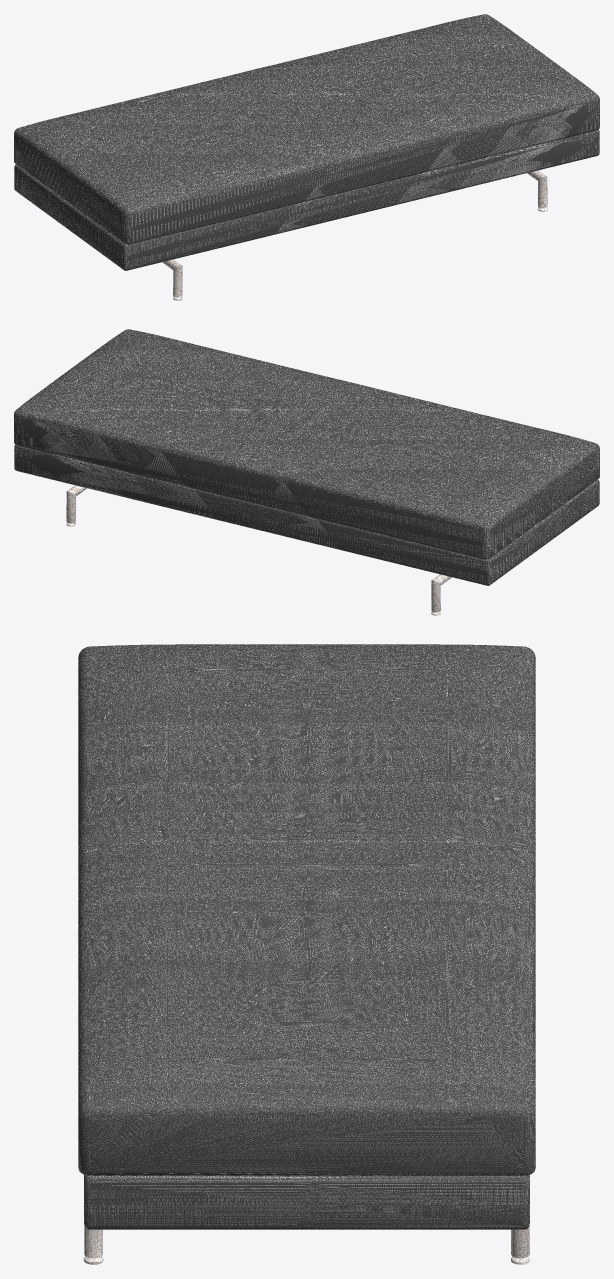
3 renders of one model, top to bottom at view 1: azimuth 30°, elevation 25°; view 2: azimuth 150°, elevation 25°; view 3: azimuth 270°, elevation 25°, orthographic. The views are drawn at different scales.
Visible parts, largest first — view 1: mesh4_mesh4-geometry, mesh1_mesh1-geometry, mesh3_mesh3-geometry, mesh2_mesh2-geometry; view 2: mesh4_mesh4-geometry, mesh1_mesh1-geometry, mesh2_mesh2-geometry, mesh3_mesh3-geometry; view 3: mesh4_mesh4-geometry, mesh1_mesh1-geometry, mesh3_mesh3-geometry.
Boxes of the visible parts, x1,y1,x2,y2 form: mesh4_mesh4-geometry: (14, 14, 599, 244); mesh1_mesh1-geometry: (14, 129, 599, 270); mesh3_mesh3-geometry: (527, 170, 547, 211); mesh2_mesh2-geometry: (162, 259, 182, 300); mesh4_mesh4-geometry: (14, 329, 599, 559); mesh1_mesh1-geometry: (14, 444, 599, 585); mesh2_mesh2-geometry: (431, 574, 451, 615); mesh3_mesh3-geometry: (66, 485, 86, 526); mesh4_mesh4-geometry: (78, 644, 535, 1175); mesh1_mesh1-geometry: (84, 1175, 529, 1229); mesh3_mesh3-geometry: (83, 1225, 529, 1264).
Bounding box in the file's own units: 0.9048 × 0.1989 × 0.3766.
